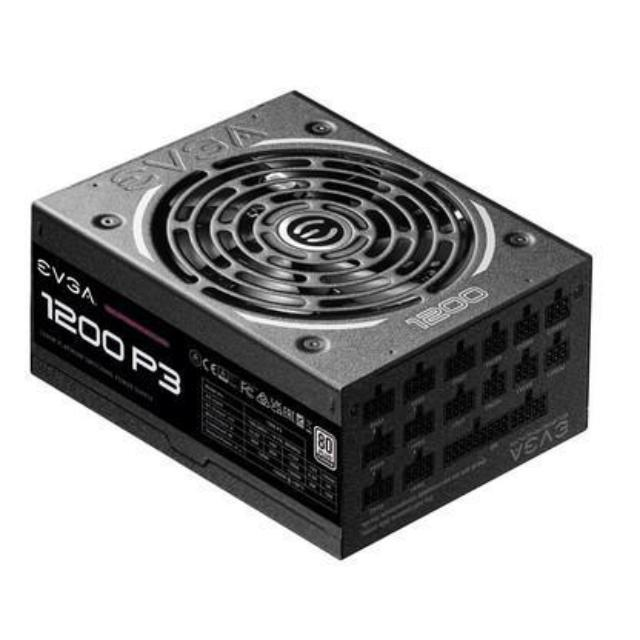PSU: (2, 78, 598, 560)
